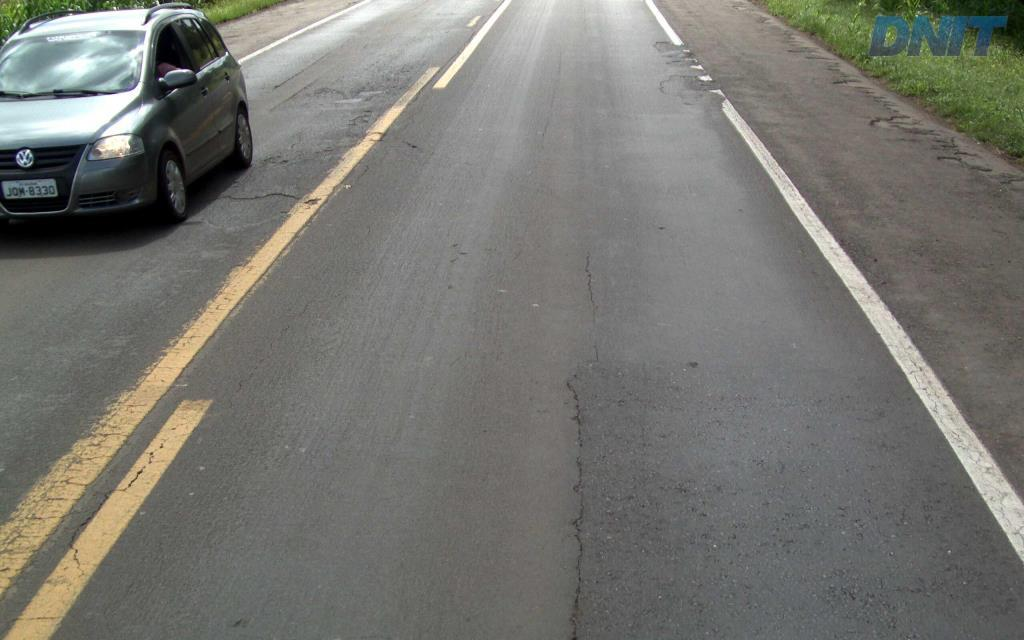crack: (568, 503, 585, 639)
